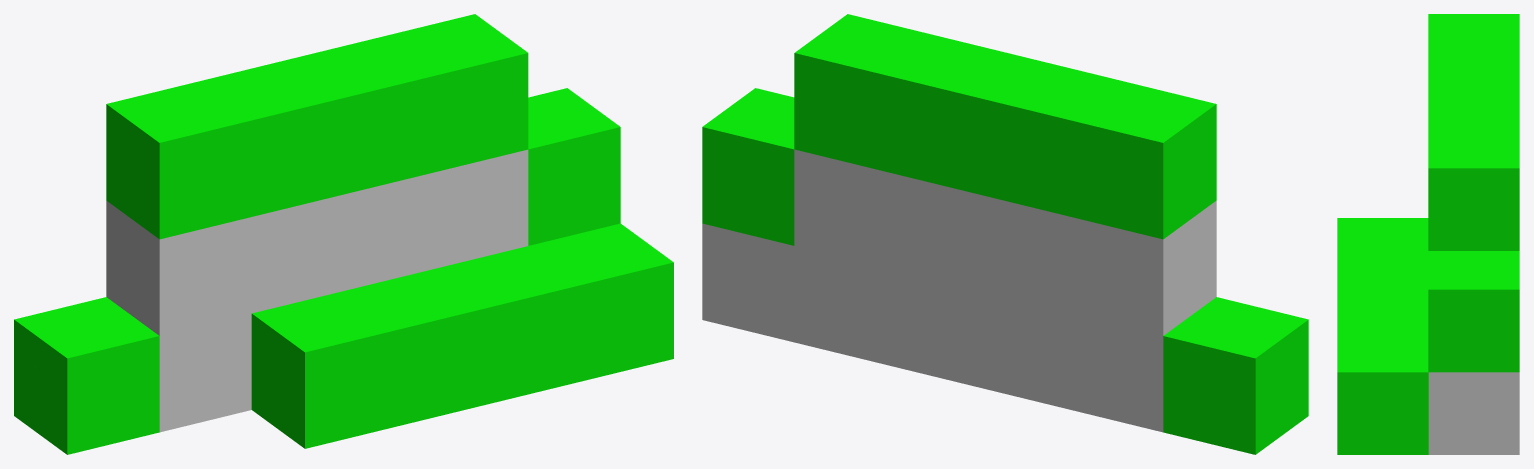
Rendered from Mound.obj.
The picture shows the model from 3 angles, left to right: view 1: azimuth 30°, elevation 25°; view 2: azimuth 150°, elevation 25°; view 3: azimuth 270°, elevation 25°; orthographic projection. The views are drawn at different scales.
Visible parts, largest first — view 1: grass, dirt; view 2: grass, dirt; view 3: grass, dirt.
Boxes of the visible parts, x1,y1,x2,y2 form: grass: (14,14,673,454); dirt: (106,149,528,432); grass: (702,14,1308,454); dirt: (702,149,1216,432); grass: (1337,14,1519,454); dirt: (1428,372,1519,454).
Size of the model in its own units: 6 by 3 by 2.
